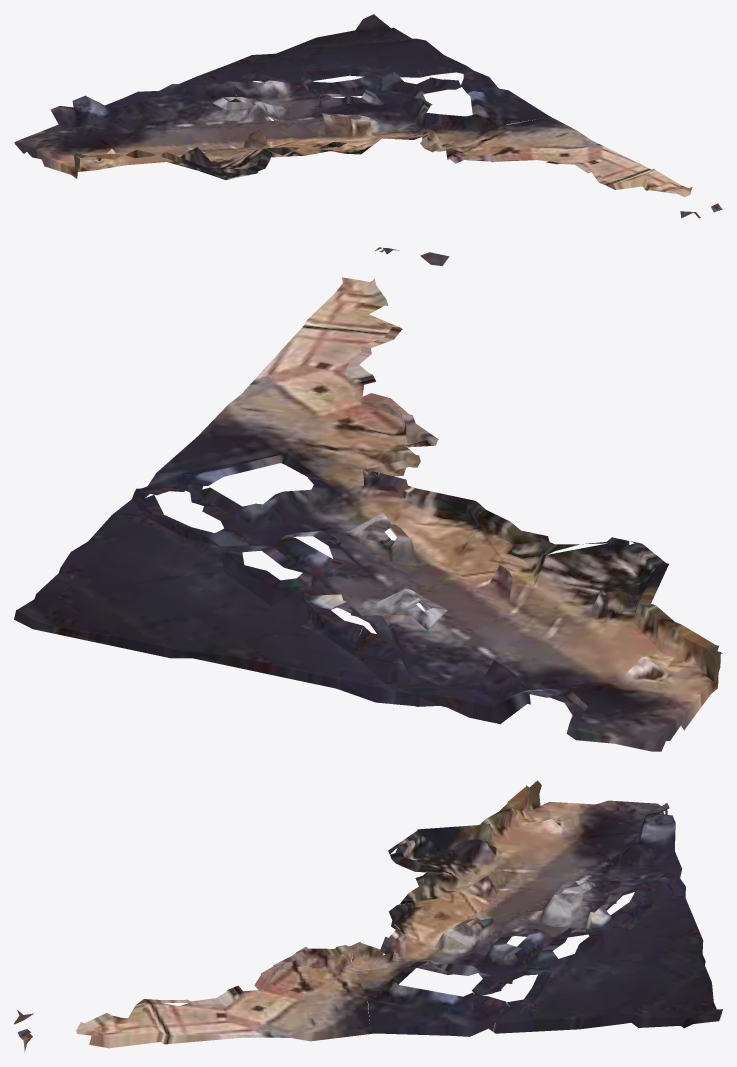
3 renders of one model, top to bottom at view 1: azimuth 30°, elevation 25°; view 2: azimuth 150°, elevation 25°; view 3: azimuth 270°, elevation 25°, orthographic. The views are drawn at different scales.
Parts seen in each view (by area): view 1: Mesh_0; view 2: Mesh_0; view 3: Mesh_0.
Part boxes in pixels (x1,y1,x2,y2): Mesh_0: (14, 14, 722, 218); Mesh_0: (14, 247, 722, 751); Mesh_0: (14, 780, 722, 1051).
Size of the model in its own units: 33.29 by 2.33 by 38.52.
1 material, 1 textured.
